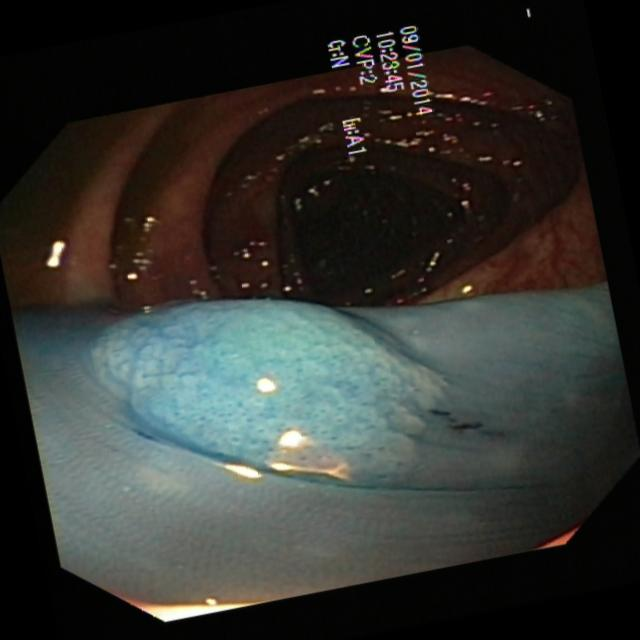dyed-lifted-polyps: (81, 285, 445, 507)
